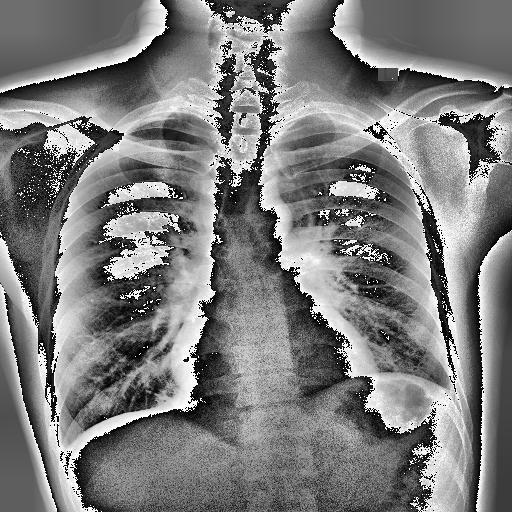10- Pleural effusion: (56, 440, 78, 465)
11- Pleural thickening: (315, 111, 382, 140), (56, 440, 78, 465), (58, 442, 74, 460), (56, 442, 70, 460), (443, 383, 459, 396)
9- Other lesion: (209, 194, 271, 272)
